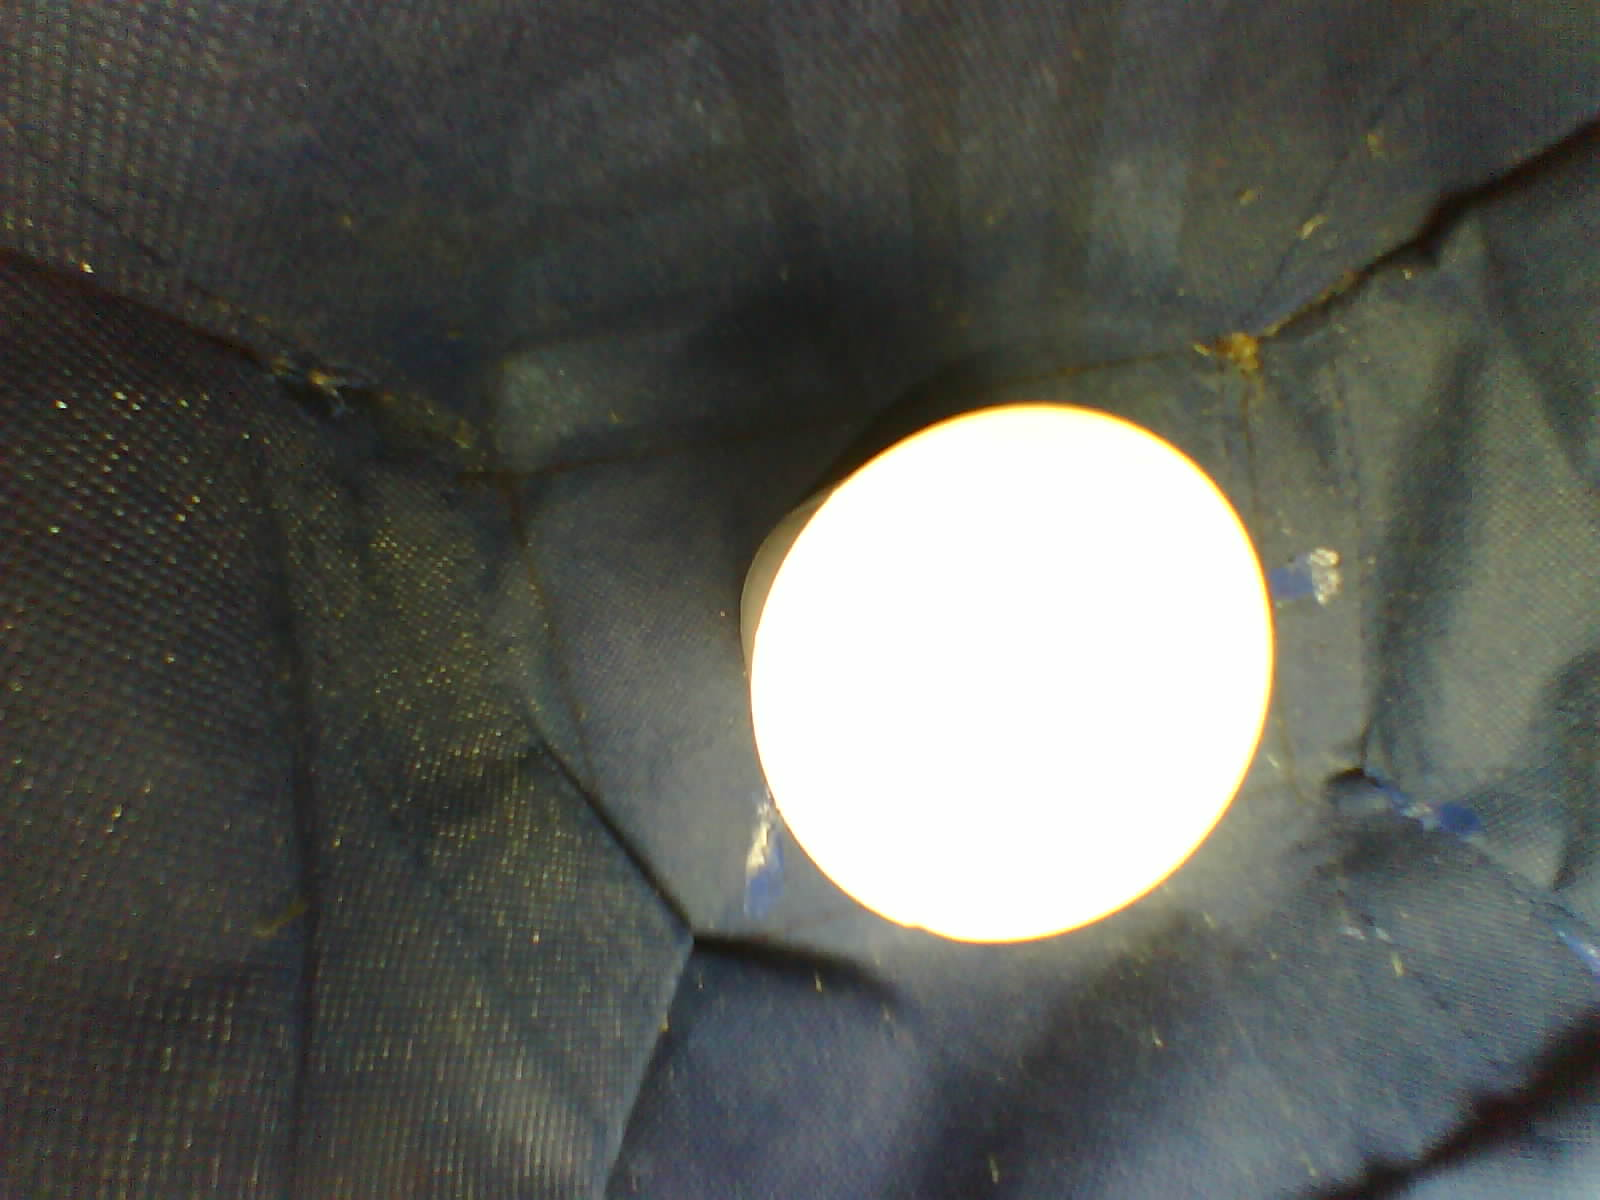cylinder-hard: (724, 389, 1280, 954)
